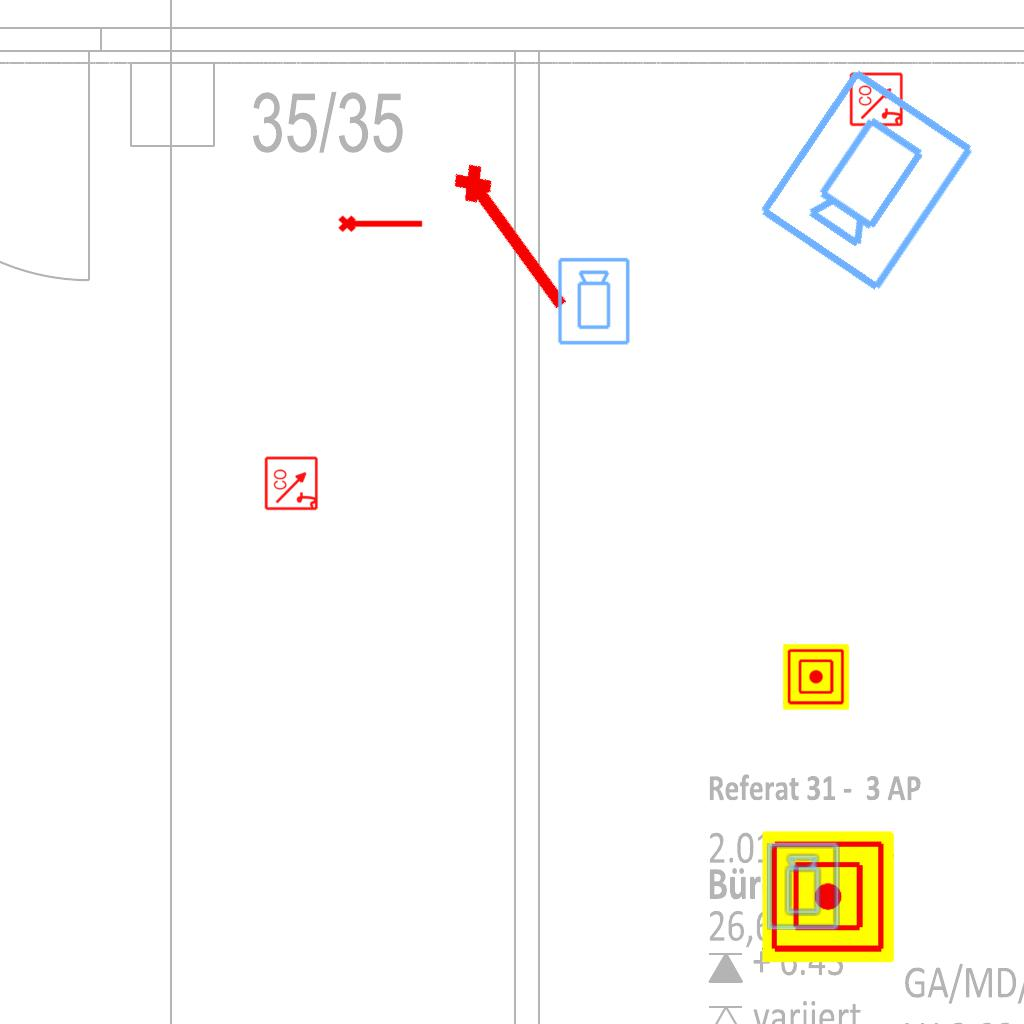ASR_Ansaugoeffnung: (444, 152, 586, 322), (337, 211, 425, 234)
KFO_Kamera_mit_Festobjektiv: (751, 60, 981, 298), (556, 256, 633, 347), (765, 841, 842, 932)
NAM-Nichtautomatischer_Melder: (762, 831, 894, 963), (783, 644, 849, 710)
ROA_Rauchmelder_optisch_mit_Signalgeber_(Sockelsirene): (849, 71, 905, 127), (264, 455, 320, 511)
